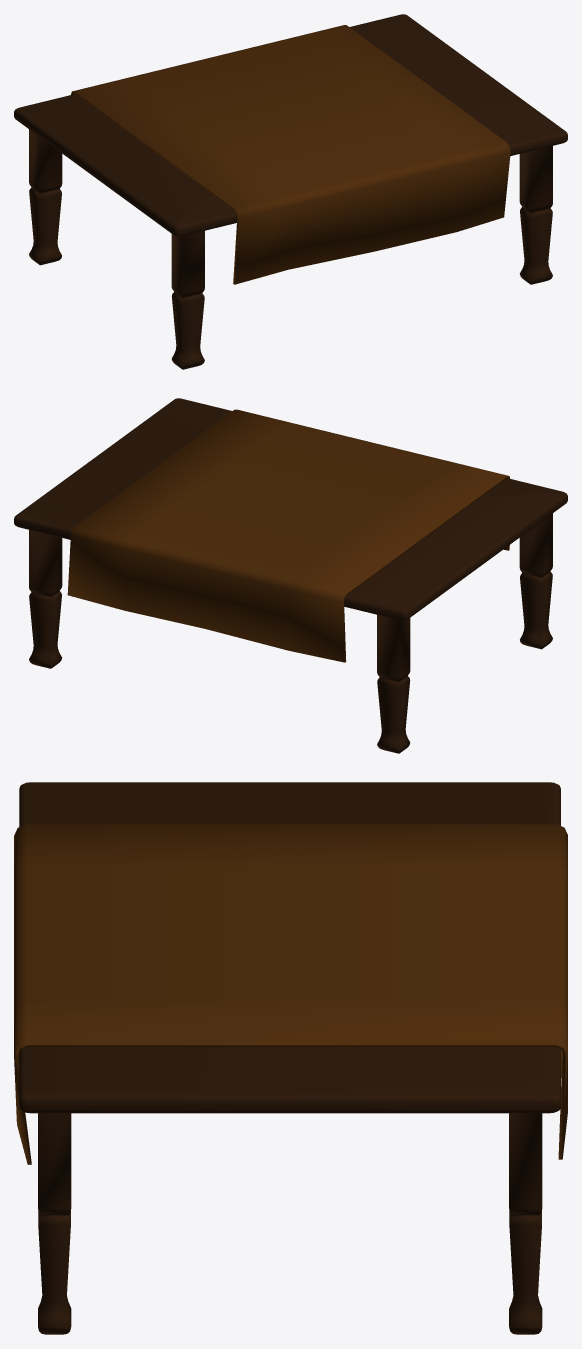
The model's file is Table.fbx.
The picture shows the model from 3 angles, top to bottom: view 1: azimuth 30°, elevation 25°; view 2: azimuth 150°, elevation 25°; view 3: azimuth 270°, elevation 25°; orthographic projection. The views are drawn at different scales.
Parts seen in each view (by area): view 1: Plane, Cube; view 2: Plane, Cube; view 3: Plane, Cube.
Part boxes in pixels (x1=…): Plane: x1=71, y1=25, x2=510, y2=284; Cube: x1=14, y1=14, x2=567, y2=369; Plane: x1=67, y1=409, x2=509, y2=662; Cube: x1=14, y1=398, x2=567, y2=753; Plane: x1=14, y1=824, x2=567, y2=1164; Cube: x1=19, y1=782, x2=560, y2=1334.
Bounding box in the file's own units: 1312 × 493 × 969.
